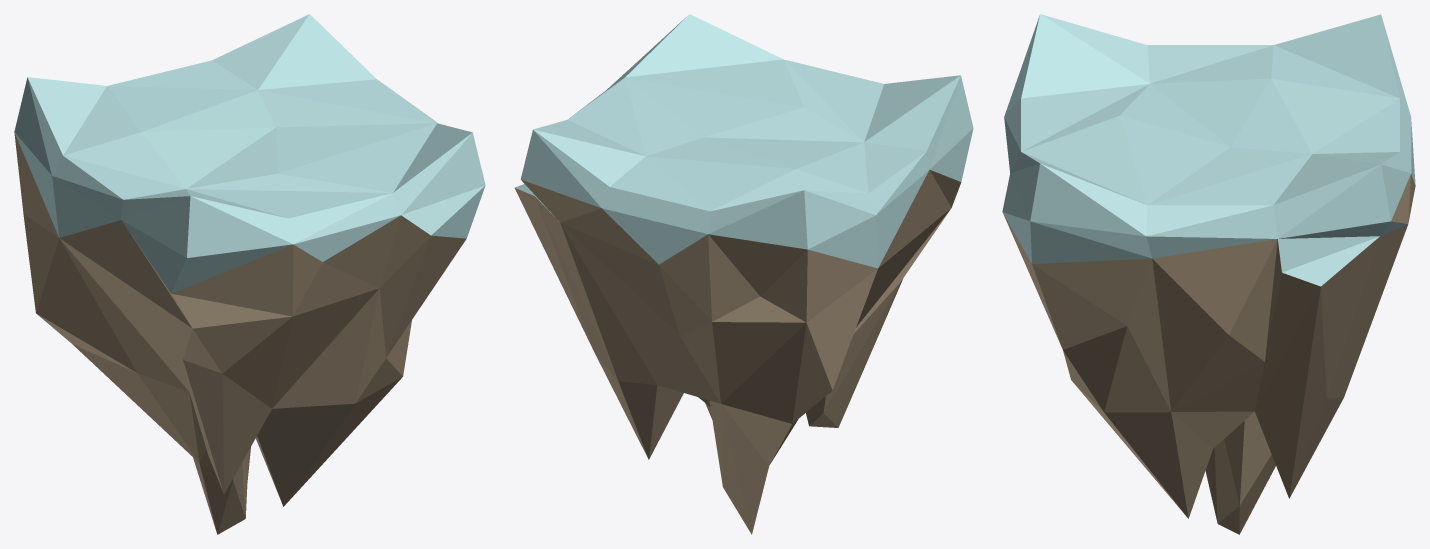
The model's file is plane_ice.FBX.
3 renders of one model, left to right at view 1: azimuth 30°, elevation 25°; view 2: azimuth 150°, elevation 25°; view 3: azimuth 270°, elevation 25°, orthographic. The views are drawn at different scales.
Parts seen in each view (by area): view 1: plane; view 2: plane; view 3: plane.
Boxes of the visible parts, x1,y1,x2,y2 form: plane: (14,14,485,534); plane: (514,14,973,534); plane: (1002,14,1415,534).
Size of the model in its own units: 39.7 by 46.8 by 38.22.
